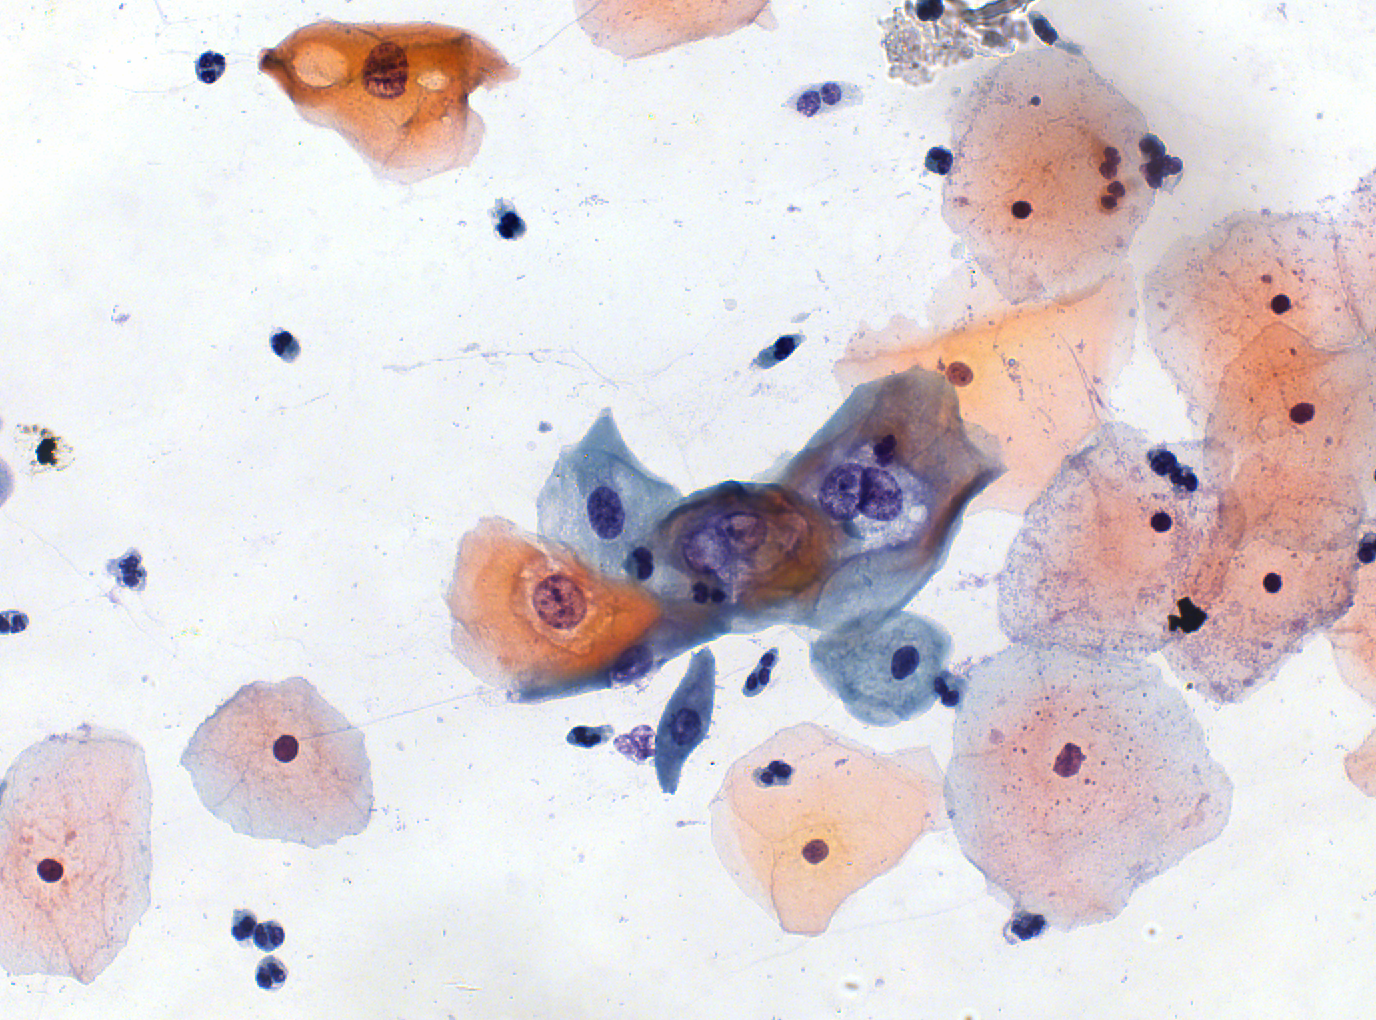Abn: (359, 37, 413, 104), (532, 574, 584, 630), (816, 462, 861, 525), (584, 482, 628, 542), (861, 468, 904, 524), (715, 508, 765, 556), (679, 523, 726, 575)
